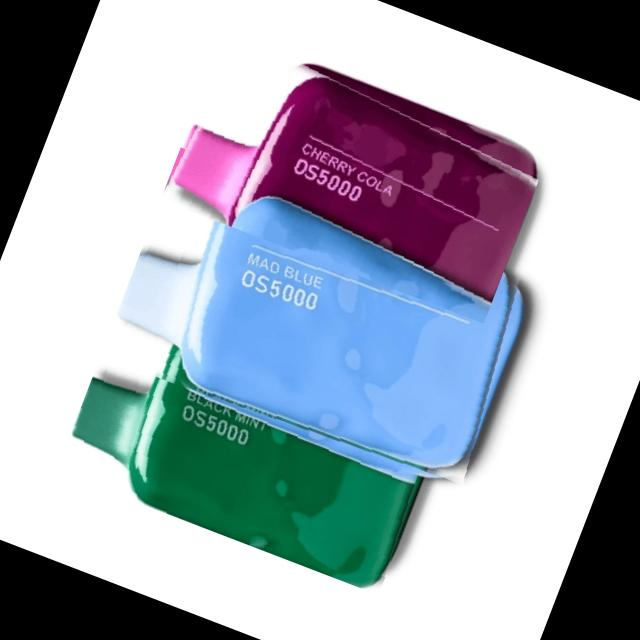Hazard: (100, 146, 540, 494), (161, 28, 550, 323), (57, 323, 437, 595)
